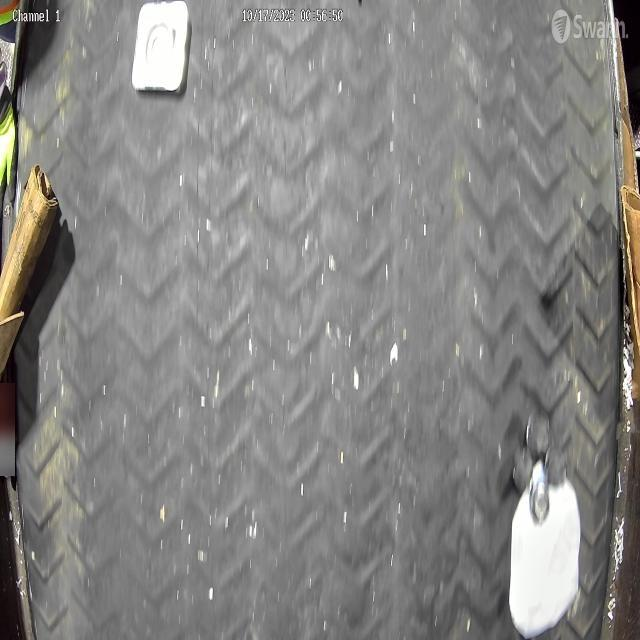milk_jug: (508, 454, 582, 638)
